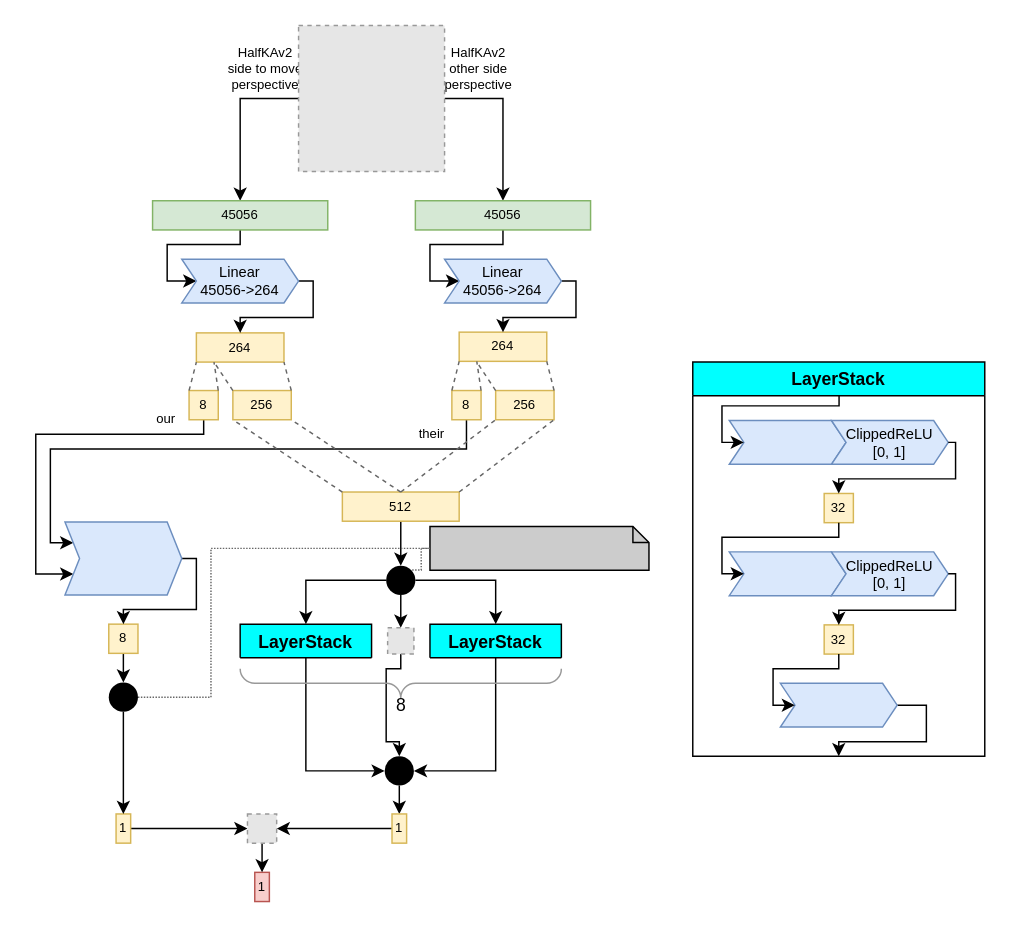
Some shapes in this 1010 by 927 pixel diagram are drawn without their labels. Grey dashed boxes stand in for pictures. The shapes that lost their labels are listed below. From the top down, each one's centre as x and y in pixels, then its label:
At (787,441): "Linear 512->32".
At (123,557): "Average perspectives (our - their) / 2".
At (539,547): "Choice based on (popcount(pos.pieces()) - 1) / 4".
At (787,573): "Linear 32->32".
At (838,704): "Linear 32->1".
